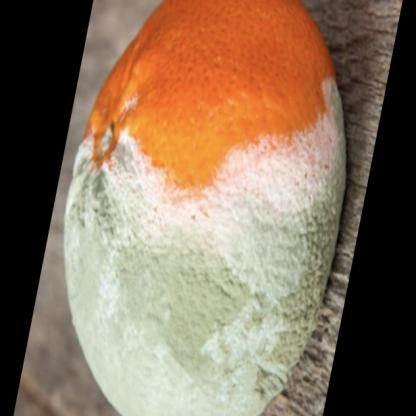rotten: (70, 1, 348, 416)
